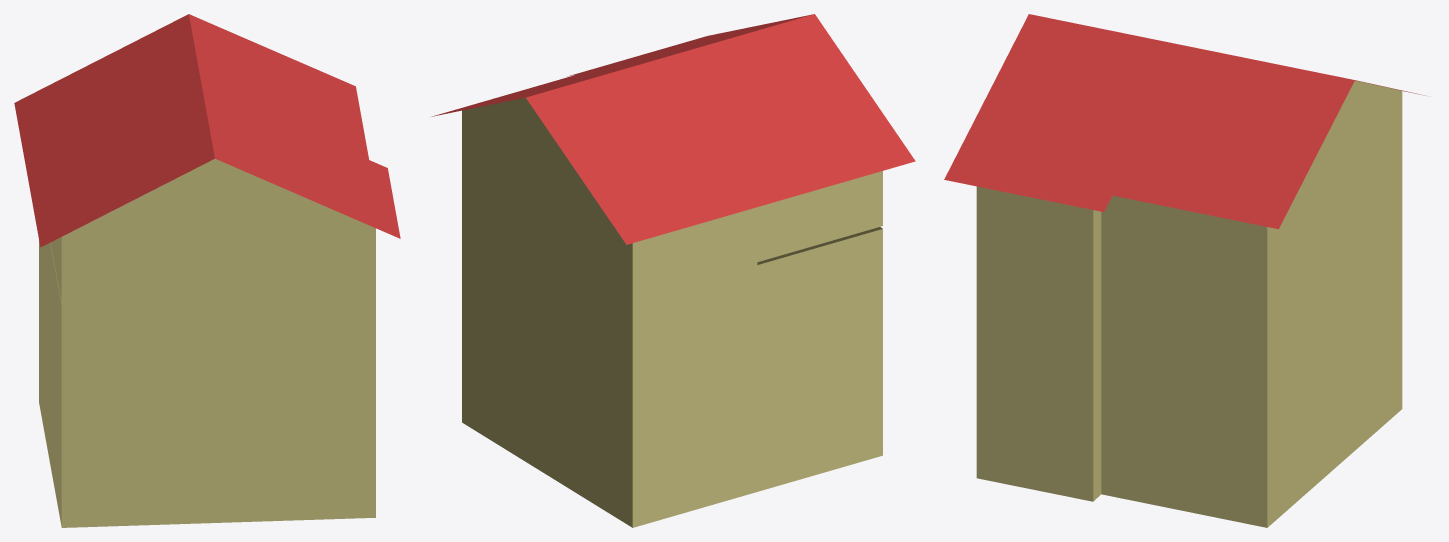
3 renders of one model, left to right at view 1: azimuth 30°, elevation 25°; view 2: azimuth 150°, elevation 25°; view 3: azimuth 270°, elevation 25°, orthographic. The views are drawn at different scales.
Size of the model in its own units: 14.86 by 15.13 by 13.41.
